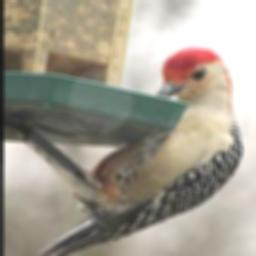Woodpecker: (32, 45, 241, 256)
